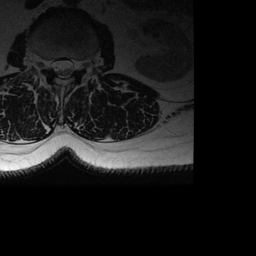CCS_normal: (58, 53, 68, 82)
LFS_normal: (75, 56, 83, 76)
LLS_normal: (67, 54, 75, 78)
RFS_normal: (41, 54, 50, 74)
RLS_normal: (51, 54, 59, 77)
